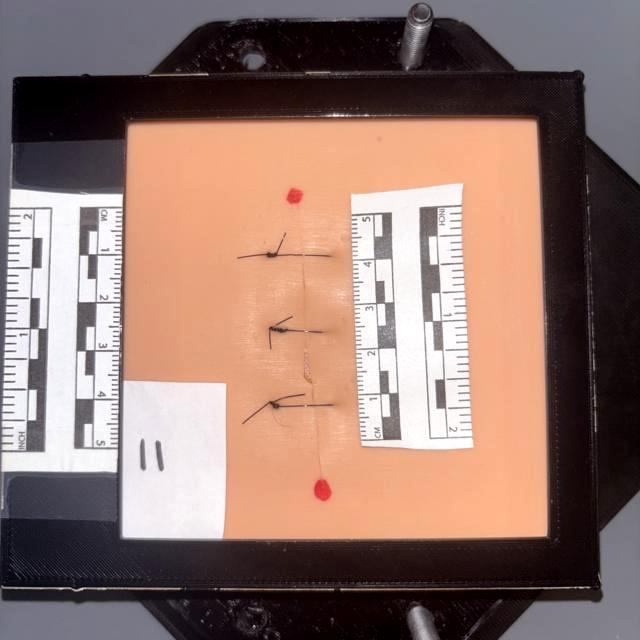incision_line: (293, 193, 329, 493)
scale_marker: (97, 204, 124, 254)
suture_d: (298, 333, 326, 404), (296, 257, 320, 326)
suture_l: (273, 324, 310, 337), (278, 400, 314, 411), (271, 249, 302, 261)
suture_r: (304, 250, 329, 260), (311, 327, 329, 338), (316, 402, 336, 410)
